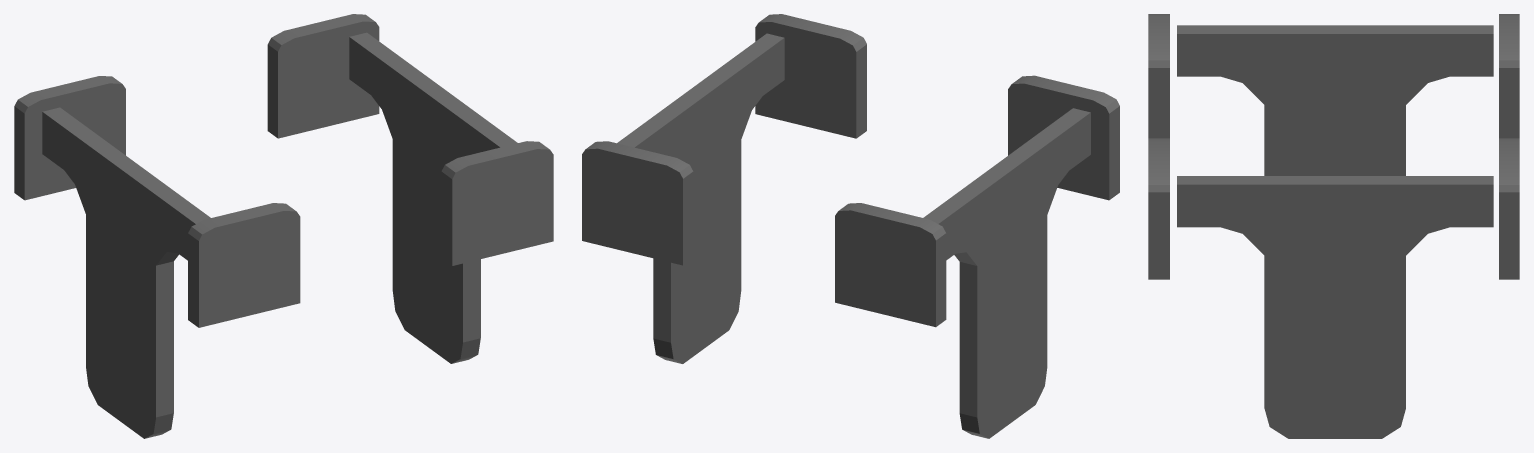
File: crane_trans1.FBX
3 renders of one model, left to right at view 1: azimuth 30°, elevation 25°; view 2: azimuth 150°, elevation 25°; view 3: azimuth 270°, elevation 25°, orthographic.
Visible parts, largest first — view 1: Object046; view 2: Object046; view 3: Object046.
Boxes of the visible parts, left/top/right/bottom form: Object046: left=14, top=14, right=553, bottom=438; Object046: left=582, top=14, right=1119, bottom=438; Object046: left=1148, top=14, right=1519, bottom=438.
Bounding box in the file's own units: 78.49 × 55.39 × 70.68.
